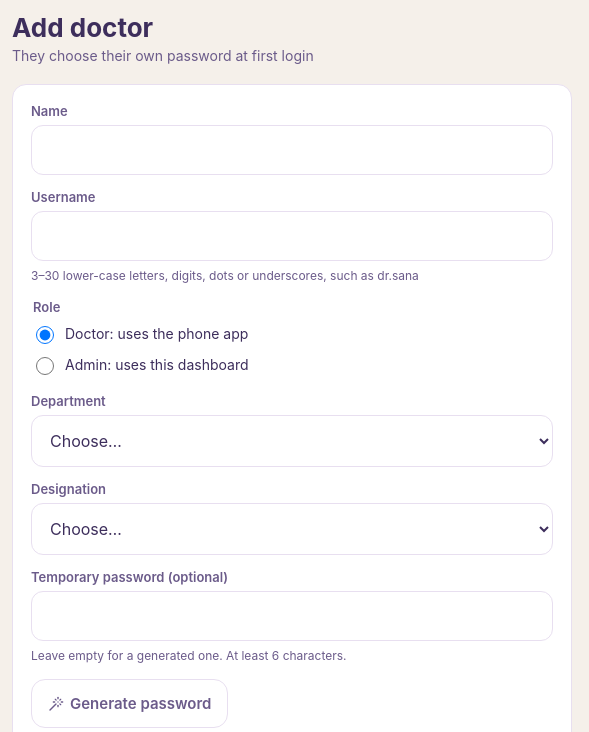
Test: doctor form › makes each account a doctor or an admin, never both
Check: the radio button labelled "Doctor: uses the phone app" is checked, box [36, 326, 54, 344]
Check: the dropdown labelled "Department" is shown, box [31, 415, 553, 467]
Click the radio button labelled "Admin: uses this dashboard".
click(45, 366)  # box [36, 357, 54, 375]
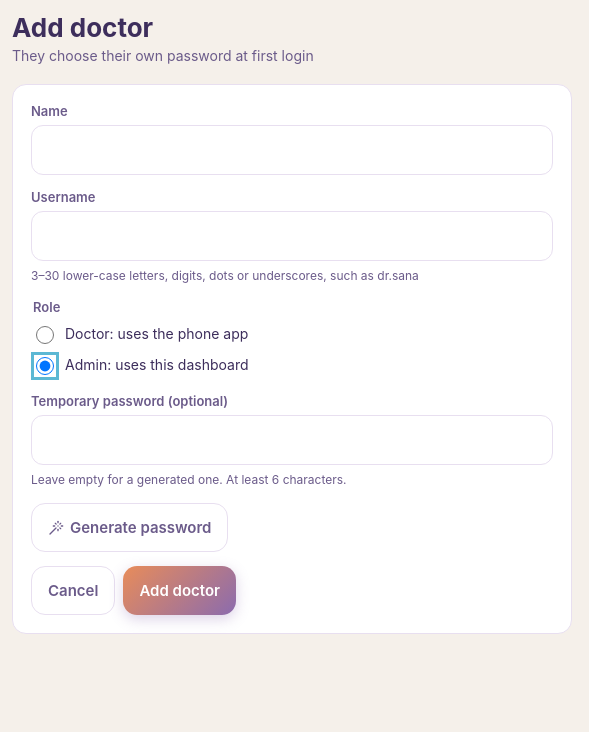
Check: the radio button labelled "Admin: uses this dashboard" is checked, box [36, 357, 54, 375]
Check: the radio button labelled "Doctor: uses the phone app" is not checked, box [36, 326, 54, 344]
Check: the label labelled "Department" is gone
Type "Admin Two" into the field labelled "Name".
click(292, 150); type("Admin Two")  # box [31, 125, 553, 175]
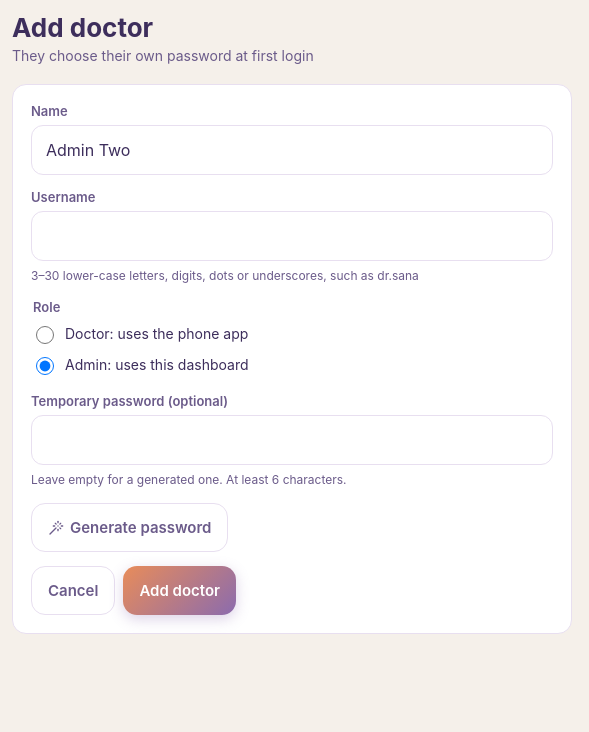
Type "admin.two" into the field labelled "Username".
click(292, 236); type("admin.two")  # box [31, 211, 553, 261]
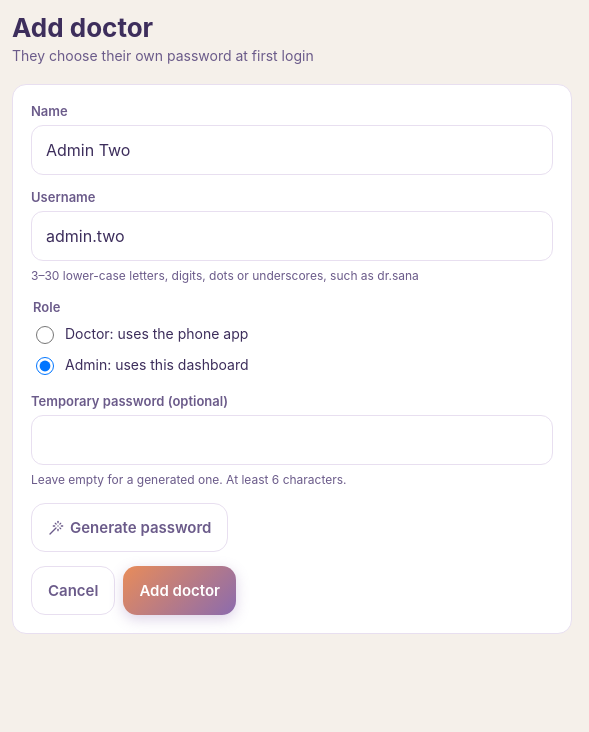
Click the button "Add doctor".
click(180, 590)  # box [123, 566, 236, 615]
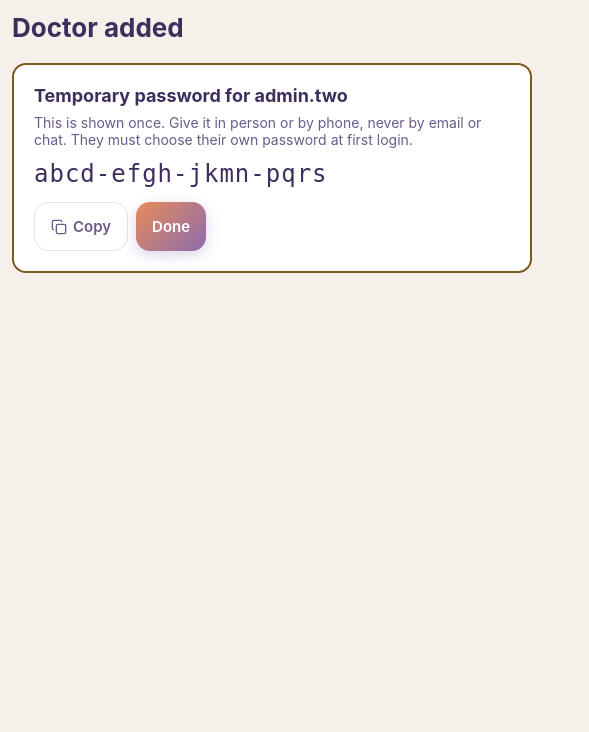
Check: the text "abcd-efgh-jkmn-pqrs" is shown, box [34, 160, 328, 188]
